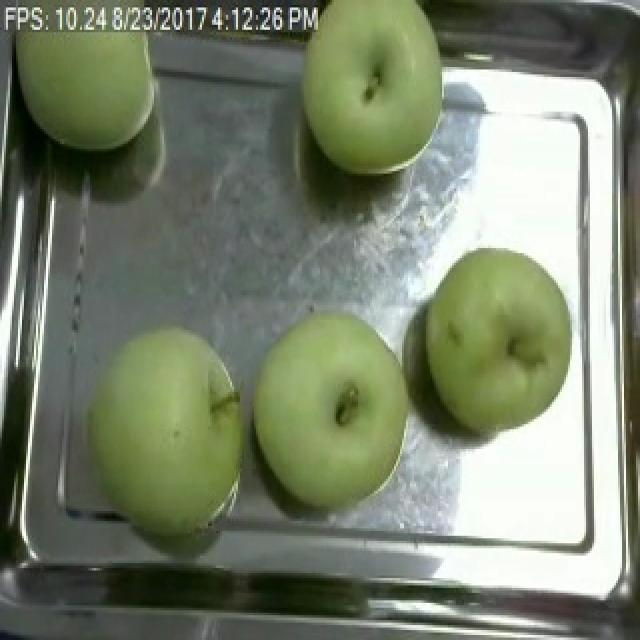50-_ripeness: (78, 310, 249, 555), (255, 284, 414, 510), (419, 237, 569, 439)
